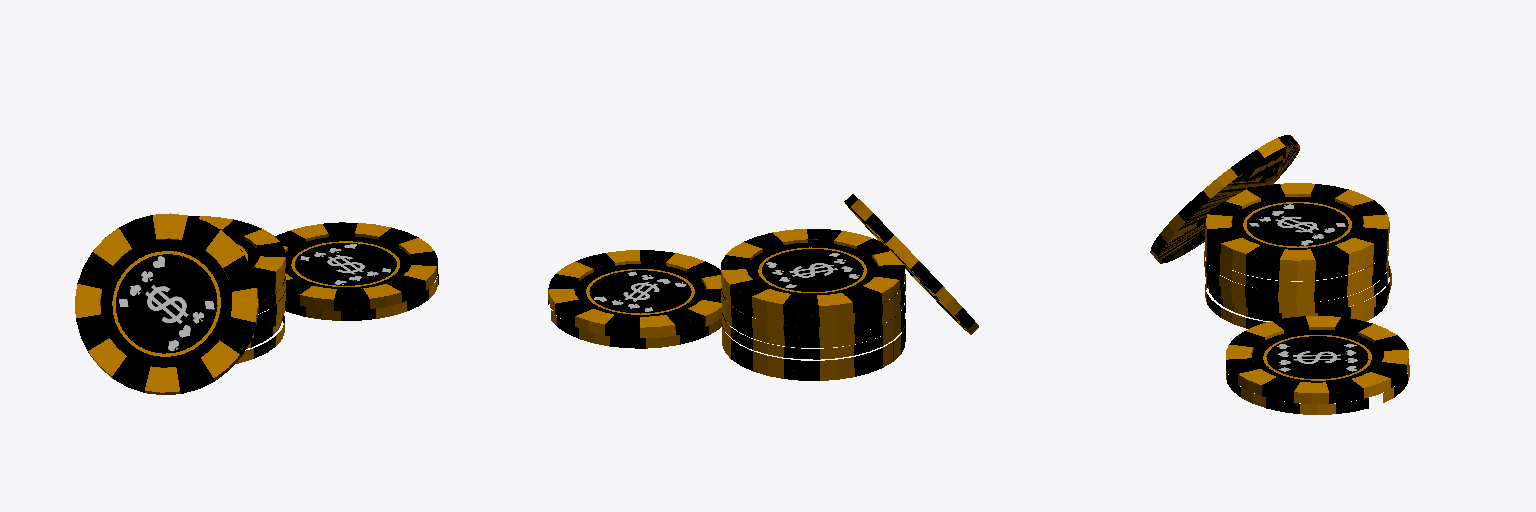
3 views of the same model, side by side, from view 1: azimuth 30°, elevation 25°; view 2: azimuth 150°, elevation 25°; view 3: azimuth 270°, elevation 25° (orthographic).
Parts seen in each view (by area): view 1: Cylinder.009, Cylinder.008, Cylinder.006, Cylinder.007; view 2: Cylinder.006, Cylinder.008, Cylinder.009, Cylinder.001, Cylinder.002, Cylinder.004, Cylinder.003, Cylinder.005, Cylinder.007, Cylinder; view 3: Cylinder.008, Cylinder.006, Cylinder.009, Cylinder.004, Cylinder.002, Cylinder.003, Cylinder.007, Cylinder.005, Cylinder.001, Cylinder.
Part boxes in pixels (bbox=[...]): Cylinder.009: bbox=[75, 213, 258, 394]; Cylinder.008: bbox=[275, 222, 437, 310]; Cylinder.006: bbox=[191, 216, 285, 291]; Cylinder.007: bbox=[280, 273, 438, 320]; Cylinder.006: bbox=[721, 229, 904, 316]; Cylinder.008: bbox=[548, 250, 722, 337]; Cylinder.009: bbox=[844, 194, 978, 334]; Cylinder.001: bbox=[722, 301, 905, 371]; Cylinder.002: bbox=[722, 294, 904, 359]; Cylinder.004: bbox=[721, 284, 904, 337]; Cylinder.003: bbox=[722, 288, 905, 347]; Cylinder.005: bbox=[722, 274, 905, 326]; Cylinder.007: bbox=[548, 300, 721, 348]; Cylinder: bbox=[722, 306, 905, 380]; Cylinder.008: bbox=[1226, 316, 1408, 403]; Cylinder.006: bbox=[1206, 183, 1389, 271]; Cylinder.009: bbox=[1150, 135, 1299, 263]; Cylinder.004: bbox=[1205, 237, 1388, 292]; Cylinder.002: bbox=[1205, 255, 1388, 313]; Cylinder.003: bbox=[1204, 251, 1387, 302]; Cylinder.007: bbox=[1226, 365, 1409, 414]; Cylinder.005: bbox=[1205, 229, 1388, 280]; Cylinder.001: bbox=[1208, 259, 1391, 320]; Cylinder: bbox=[1205, 265, 1388, 328].
Size of the model in its own units: 4.75 by 1.66 by 2.82.
1 materials, 1 textured.